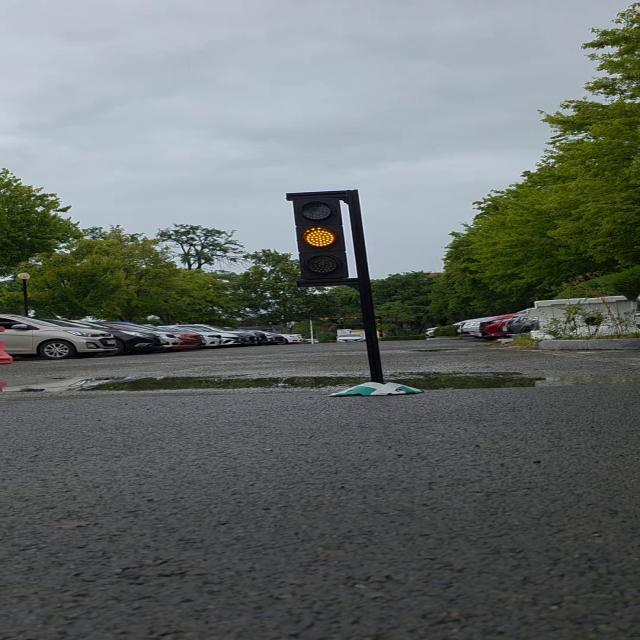yellow: (290, 198, 342, 278)
